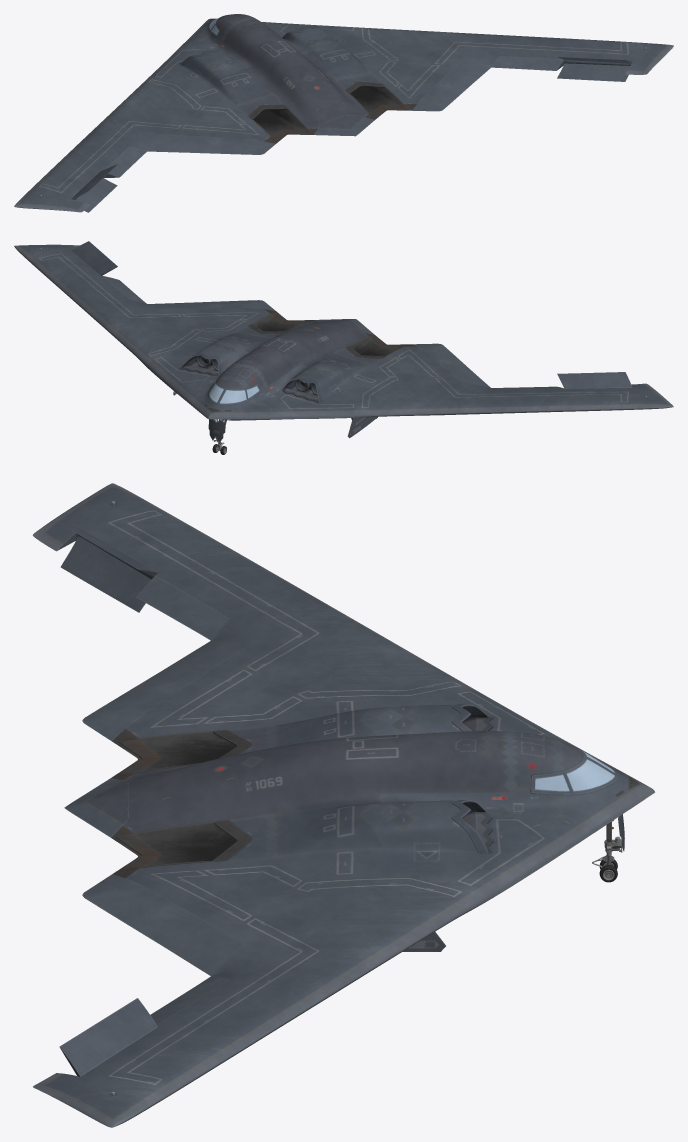
3 views of the same model, one above another, from view 1: azimuth 30°, elevation 25°; view 2: azimuth 150°, elevation 25°; view 3: azimuth 270°, elevation 25° (orthographic). The views are drawn at different scales.
Parts seen in each view (by area): view 1: Object_26, Object_14, Object_25, Object_31, Object_7, Object_15, Object_11, Object_10; view 2: Object_26, Object_25, Object_31, Object_14, Object_15, Object_10, Object_7, Object_13, Object_11, Object_1, Object_29, Object_18; view 3: Object_26, Object_14, Object_25, Object_31, Object_15, Object_7, Object_11, Object_13, Object_1.
Part boxes in pixels (left/top/right/bottom): Object_26: left=14, top=14, right=673, bottom=212; Object_14: left=40, top=57, right=632, bottom=196; Object_25: left=15, top=14, right=673, bottom=211; Object_31: left=248, top=81, right=407, bottom=141; Object_7: left=148, top=134, right=275, bottom=154; Object_15: left=212, top=24, right=490, bottom=111; Object_11: left=40, top=47, right=646, bottom=212; Object_10: left=71, top=164, right=117, bottom=199; Object_26: left=14, top=244, right=673, bottom=420; Object_25: left=44, top=245, right=673, bottom=418; Object_31: left=202, top=312, right=407, bottom=453; Object_14: left=71, top=241, right=646, bottom=397; Object_15: left=149, top=300, right=275, bottom=441; Object_10: left=557, top=372, right=632, bottom=388; Object_7: left=413, top=343, right=490, bottom=387; Object_13: left=179, top=353, right=321, bottom=402; Object_11: left=40, top=248, right=646, bottom=438; Object_1: left=209, top=381, right=259, bottom=403; Object_29: left=196, top=355, right=317, bottom=394; Object_18: left=202, top=359, right=316, bottom=405; Object_26: left=32, top=483, right=654, bottom=1127; Object_14: left=59, top=503, right=445, bottom=1076; Object_25: left=34, top=508, right=654, bottom=1126; Object_31: left=116, top=730, right=614, bottom=880; Object_15: left=82, top=757, right=624, bottom=975; Object_7: left=82, top=641, right=243, bottom=741; Object_11: left=60, top=501, right=622, bottom=1095; Object_13: left=452, top=704, right=493, bottom=853; Object_1: left=534, top=751, right=614, bottom=791.
Bounding box in the file's own units: 2117 × 215 × 865.
1 material, 1 textured.
